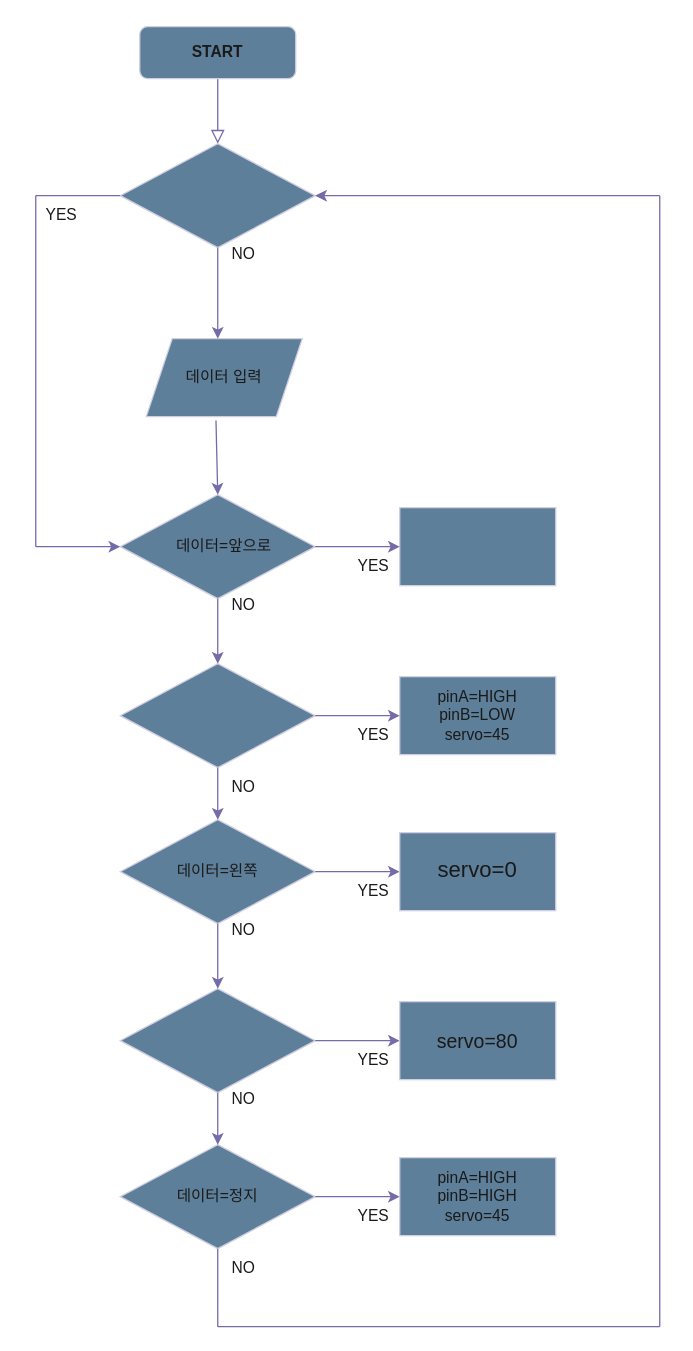
The diagram is 693 pixels wide and 1351 high, and some of its shapes have lost their labels. Here are the shapes that lost their labels. From the top down, the box of each, then its label:
(119, 142, 315, 248): 데이터를 받았는가?
(398, 506, 556, 586): pinA=LOW pinB=HIGH servo=45
(119, 662, 315, 768): 데이터=뒤로
(119, 987, 315, 1093): 데이터=오른쪽
